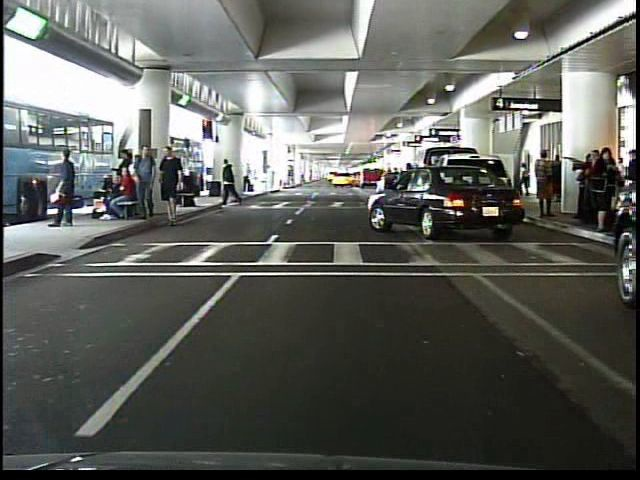person: (53, 144, 86, 234), (531, 148, 555, 219), (220, 158, 245, 207), (519, 159, 535, 199)
